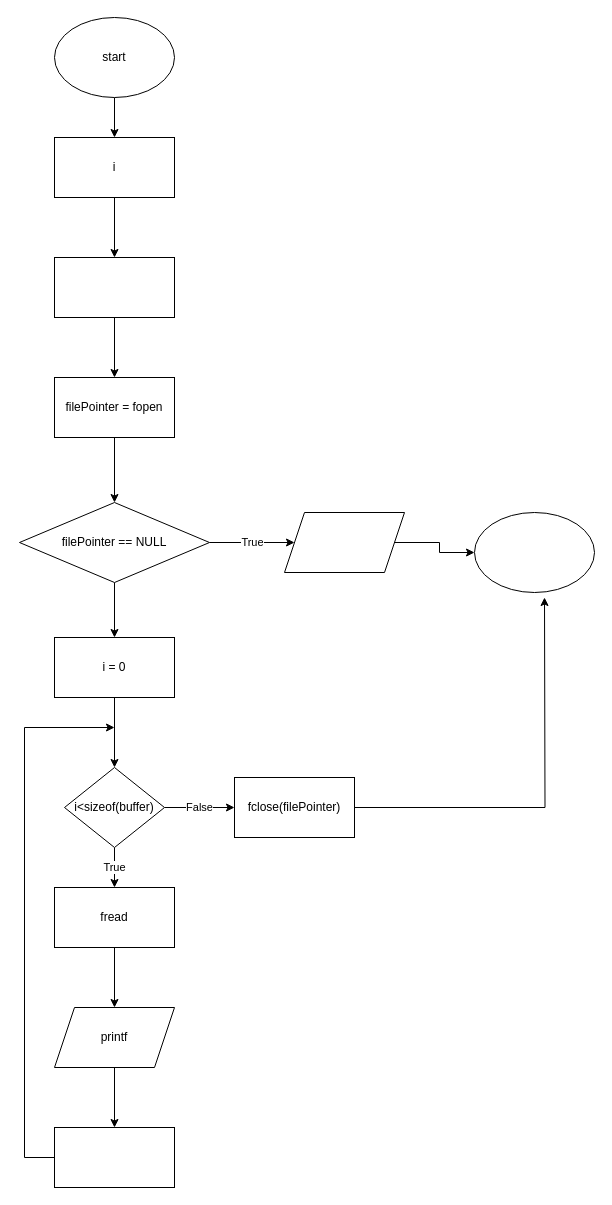
The diagram is 612 pixels wide and 1205 high, and some of its shapes have lost their labels. Each missing label, with the centre of its shape:
*filePointer: the point at 114,287
End: the point at 534,552
i++: the point at 114,1157
Khong the mo duoc file: the point at 344,542
